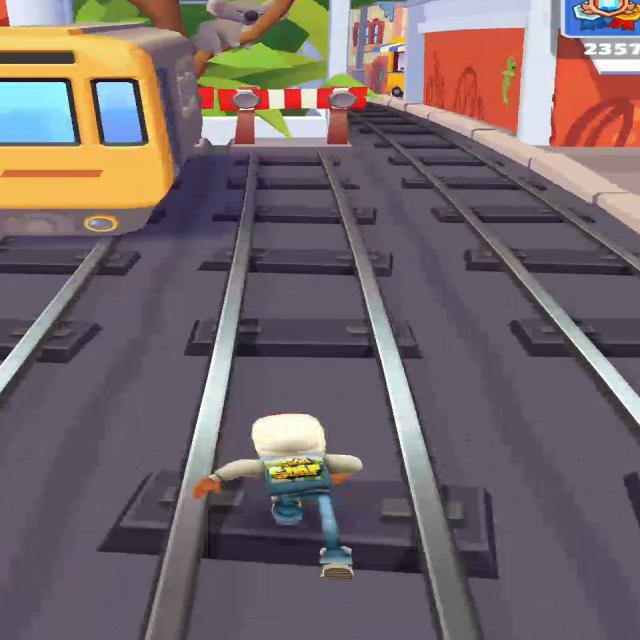block pillar: (185, 1, 381, 151)
train: (0, 21, 206, 236)
